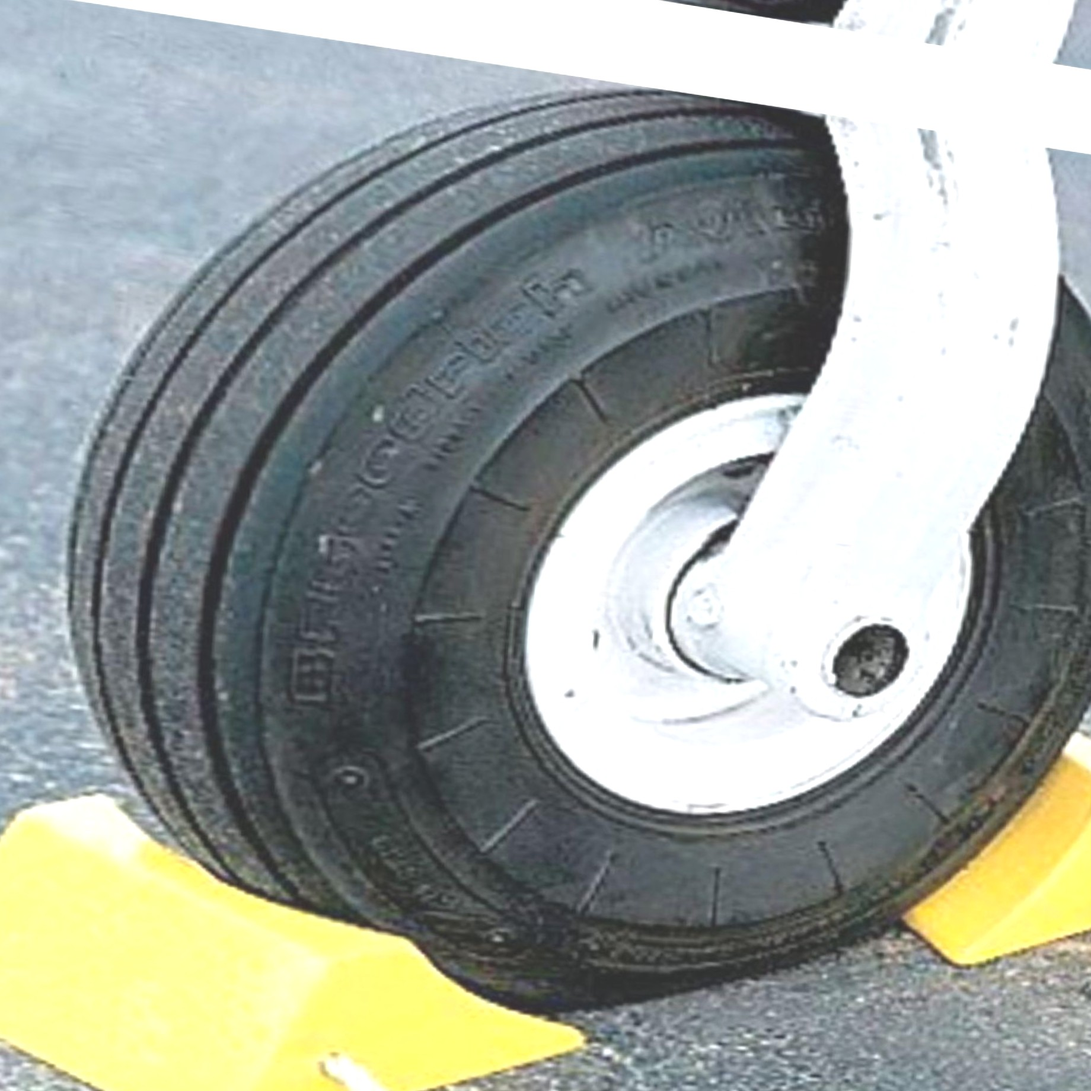chock: (0, 761, 603, 1091), (791, 683, 1091, 1007)
wheel: (7, 1, 1091, 1091)
